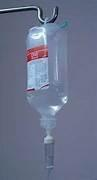Iv_Bottle: (26, 23, 67, 130)
